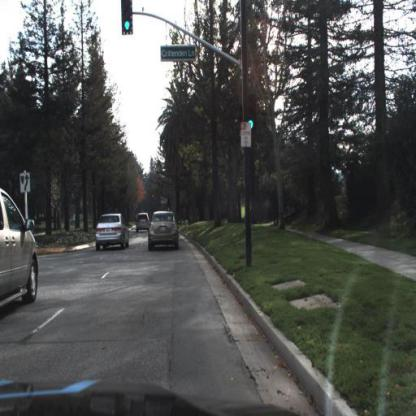car: (1, 184, 40, 332), (95, 213, 132, 255), (149, 210, 180, 252), (136, 211, 150, 235)
trafficLight: (248, 96, 257, 134), (122, 1, 132, 35)
